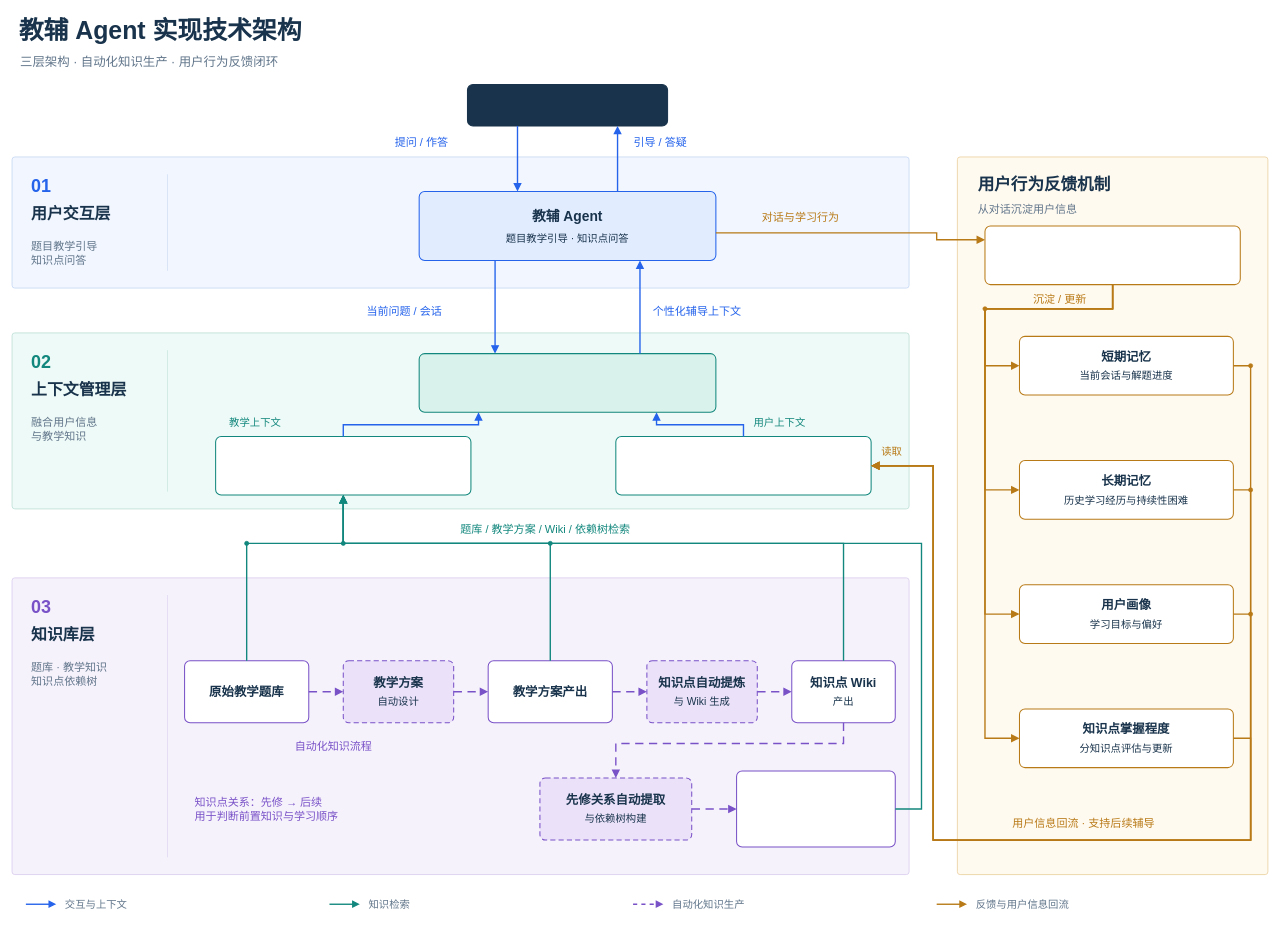
The diagram is 1281 pixels wide and 926 high, and some of its shapes have lost their labels. Each missing label, with the centre of its shape:
对话反馈分析 行为提取 · 记忆更新 · 掌握评估: (1112,255)
教学知识检索 题目 · 教学方案 · Wiki · 依赖树: (343,465)
用户 / 学习者: (567,105)
用户信息读取 记忆 · 用户画像 · 知识点掌握程度: (743,465)
知识点依赖树产出 先修知识点 → 后续知识点 与 Wiki 知识点关联: (815,808)
辅导上下文组装 当前问题 + 用户信息 + 相关知识: (567,382)
